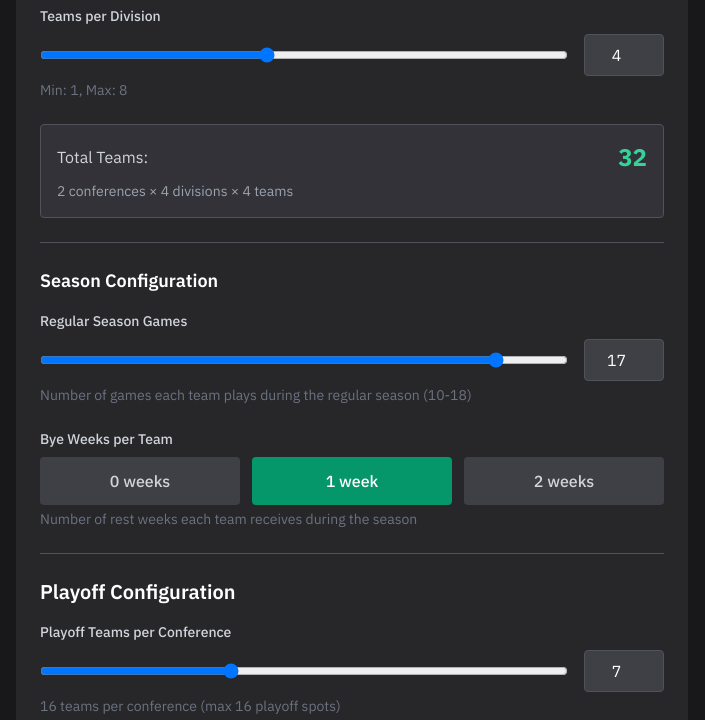
Test case: CreateLeaguePage › Season Configuration › should update regular season games when slider changes
The image size is (705, 720).
(page scrolled)
Expected: the slider labelled "Regular Season Games" is shown, [40,352,568,368]
Replace the text in the number field named "Regular Season Games Number Input" with "14" at (624, 360), box [584,339,664,381]
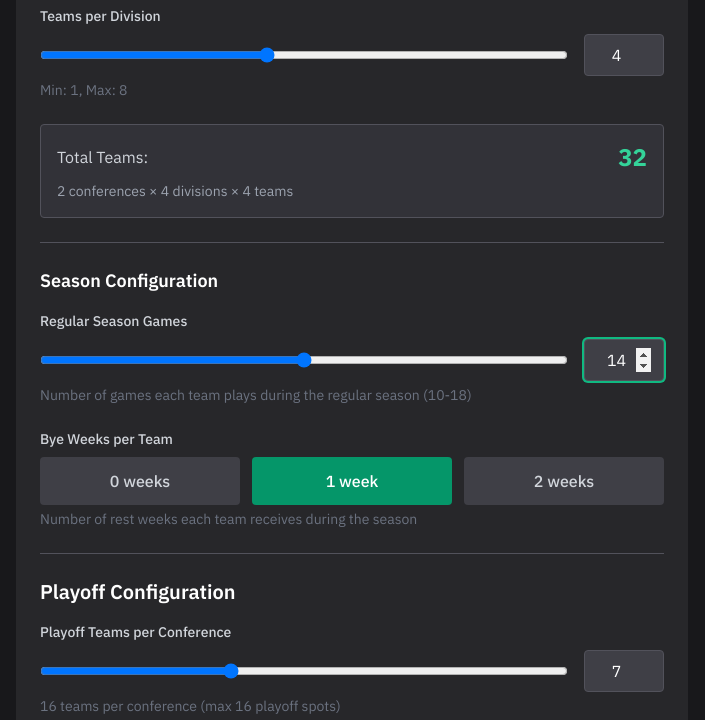
Result: the slider labelled "Regular Season Games" holds "14" at [40,352,568,368]
